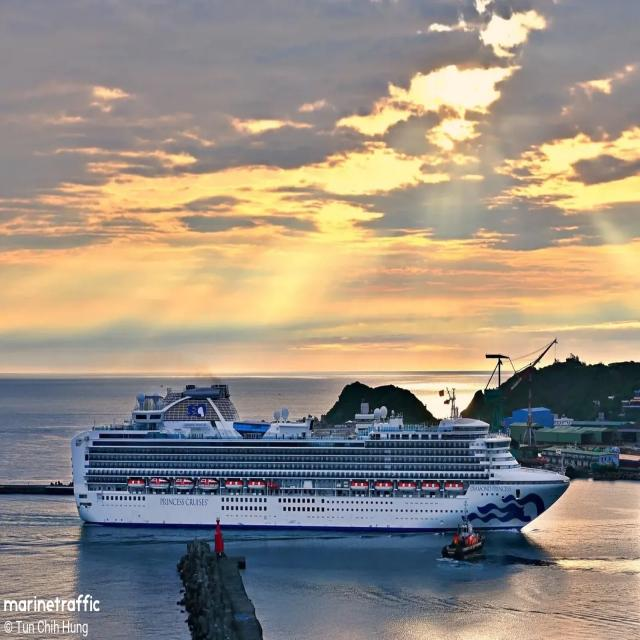Cruise: (71, 384, 569, 532)
Tug: (442, 502, 484, 558)
